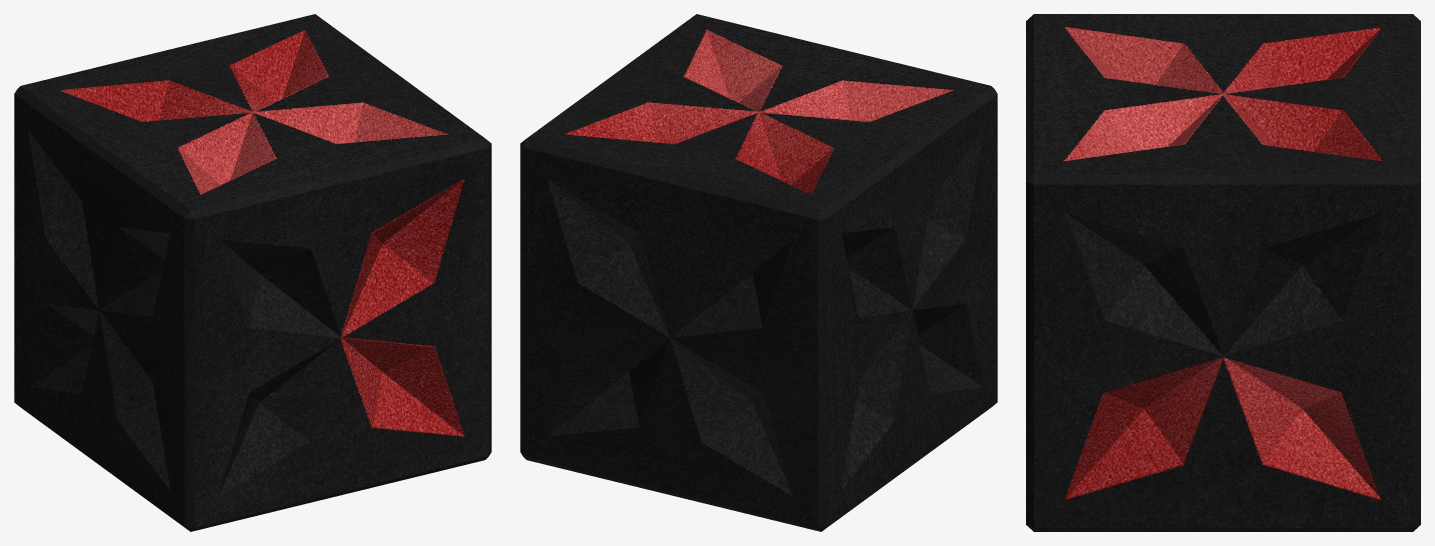
File: RubyDV.glb
3 views of the same model, side by side, from view 1: azimuth 30°, elevation 25°; view 2: azimuth 150°, elevation 25°; view 3: azimuth 270°, elevation 25° (orthographic). The views are drawn at different scales.
Parts seen in each view (by area): view 1: Mesh_0; view 2: Mesh_0; view 3: Mesh_0.
Boxes of the visible parts, x1,y1,x2,y2 form: Mesh_0: (14,14,491,531); Mesh_0: (520,14,997,531); Mesh_0: (1026,14,1420,531).
Bounding box in the file's own units: 104 × 104 × 104.
1 material, 1 textured.
